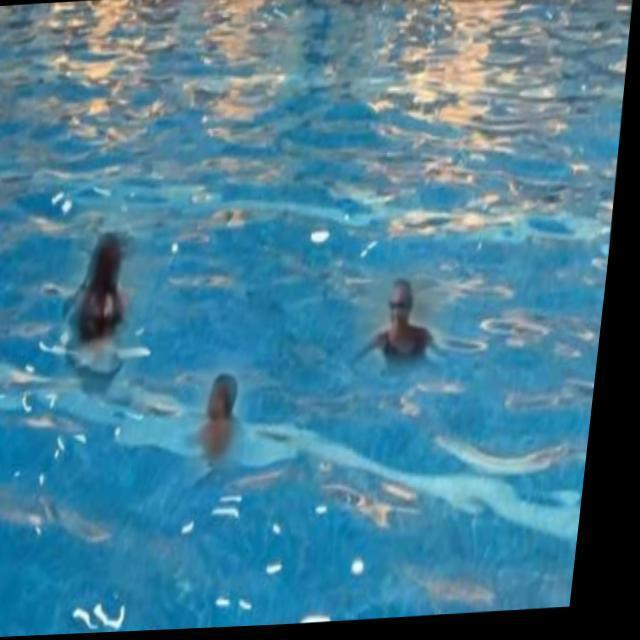swimming: (341, 264, 471, 386), (53, 232, 146, 397), (179, 371, 256, 466)
